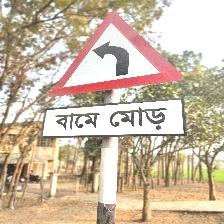Left-Turn: (43, 8, 189, 138)
